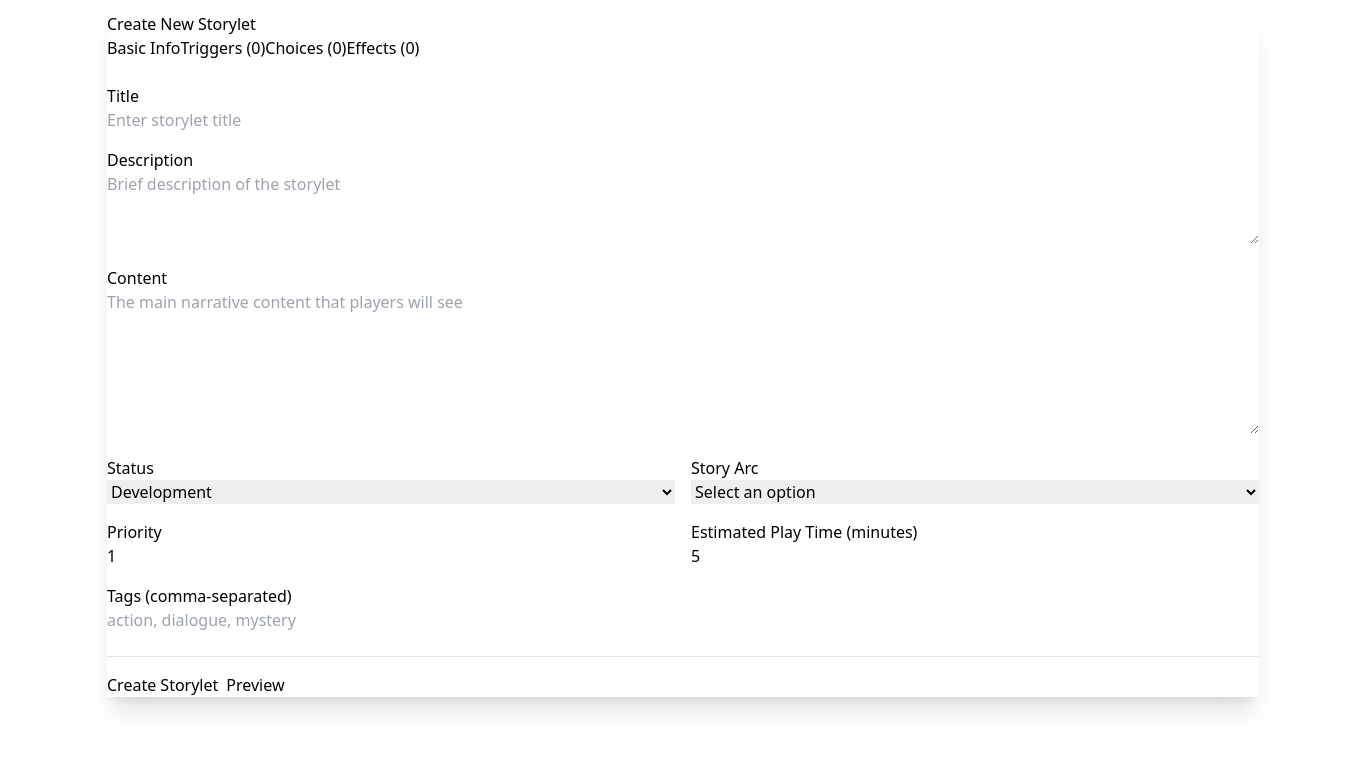
Test case: AdvancedStoryletCreator › allows switching between tabs
Switch to Triggers tab
Click the button "Triggers (0)" at (223,48), box [180, 36, 265, 60]
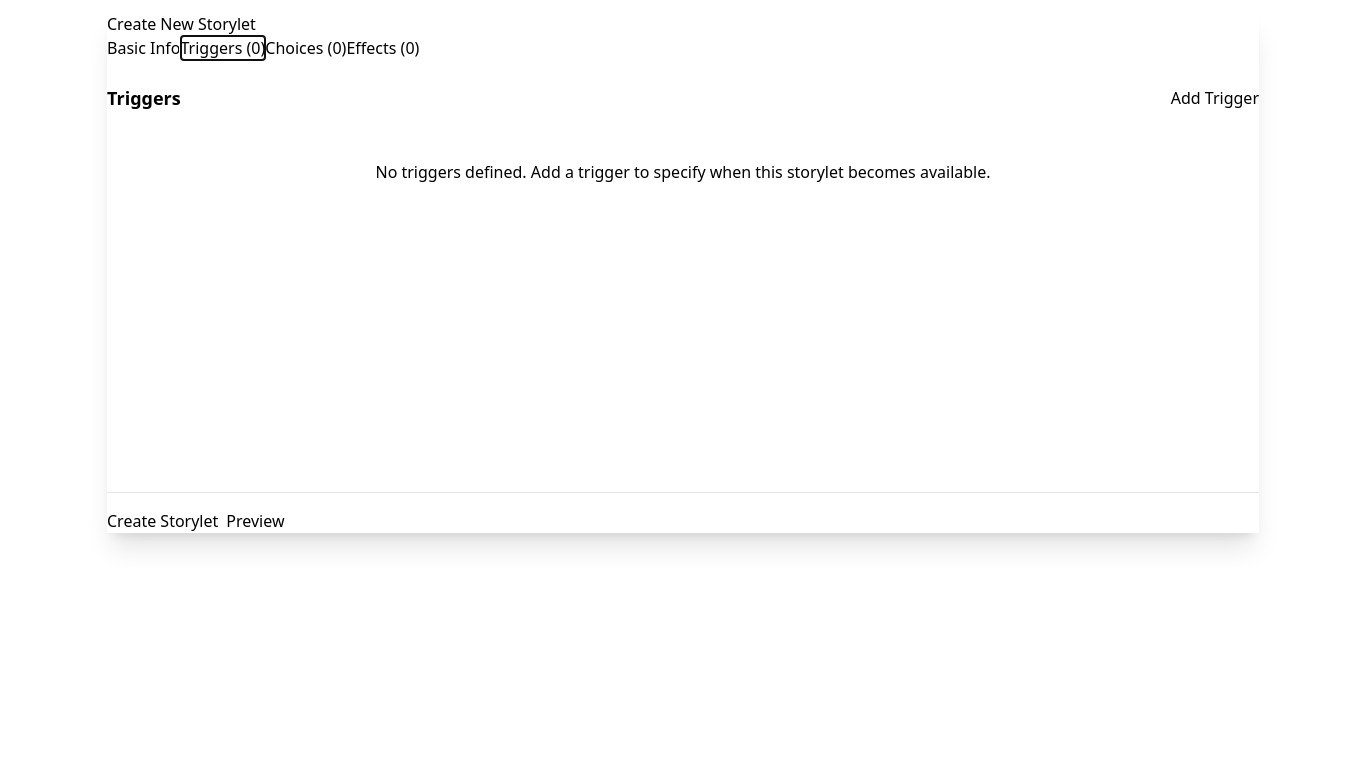
Now the text "No triggers defined. Add a trigger to specify when this storylet becomes available." is shown, box [376, 161, 991, 183]
Switch to Choices tab
Click the button "Choices (0)" at (306,48), box [265, 36, 346, 60]
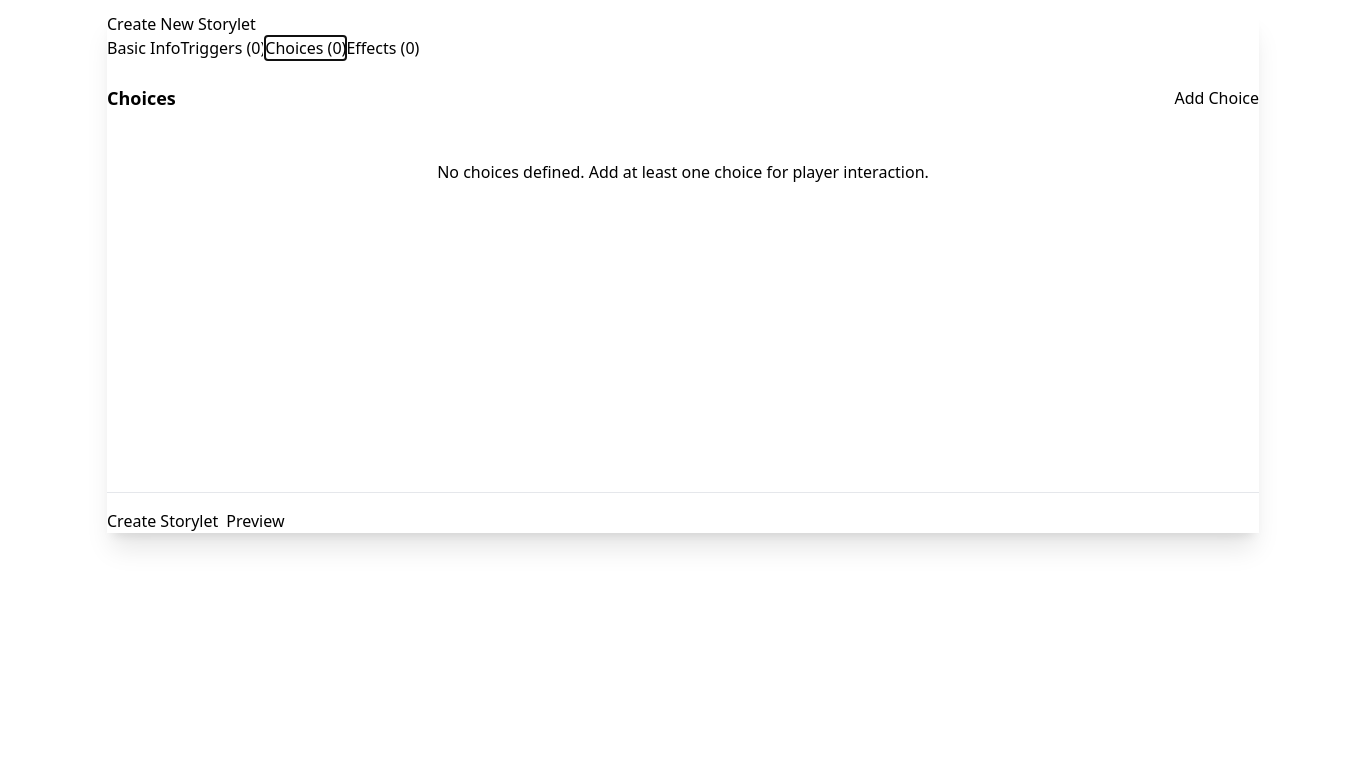
Now the text "No choices defined. Add at least one choice for player interaction." is shown, box [437, 161, 929, 183]
